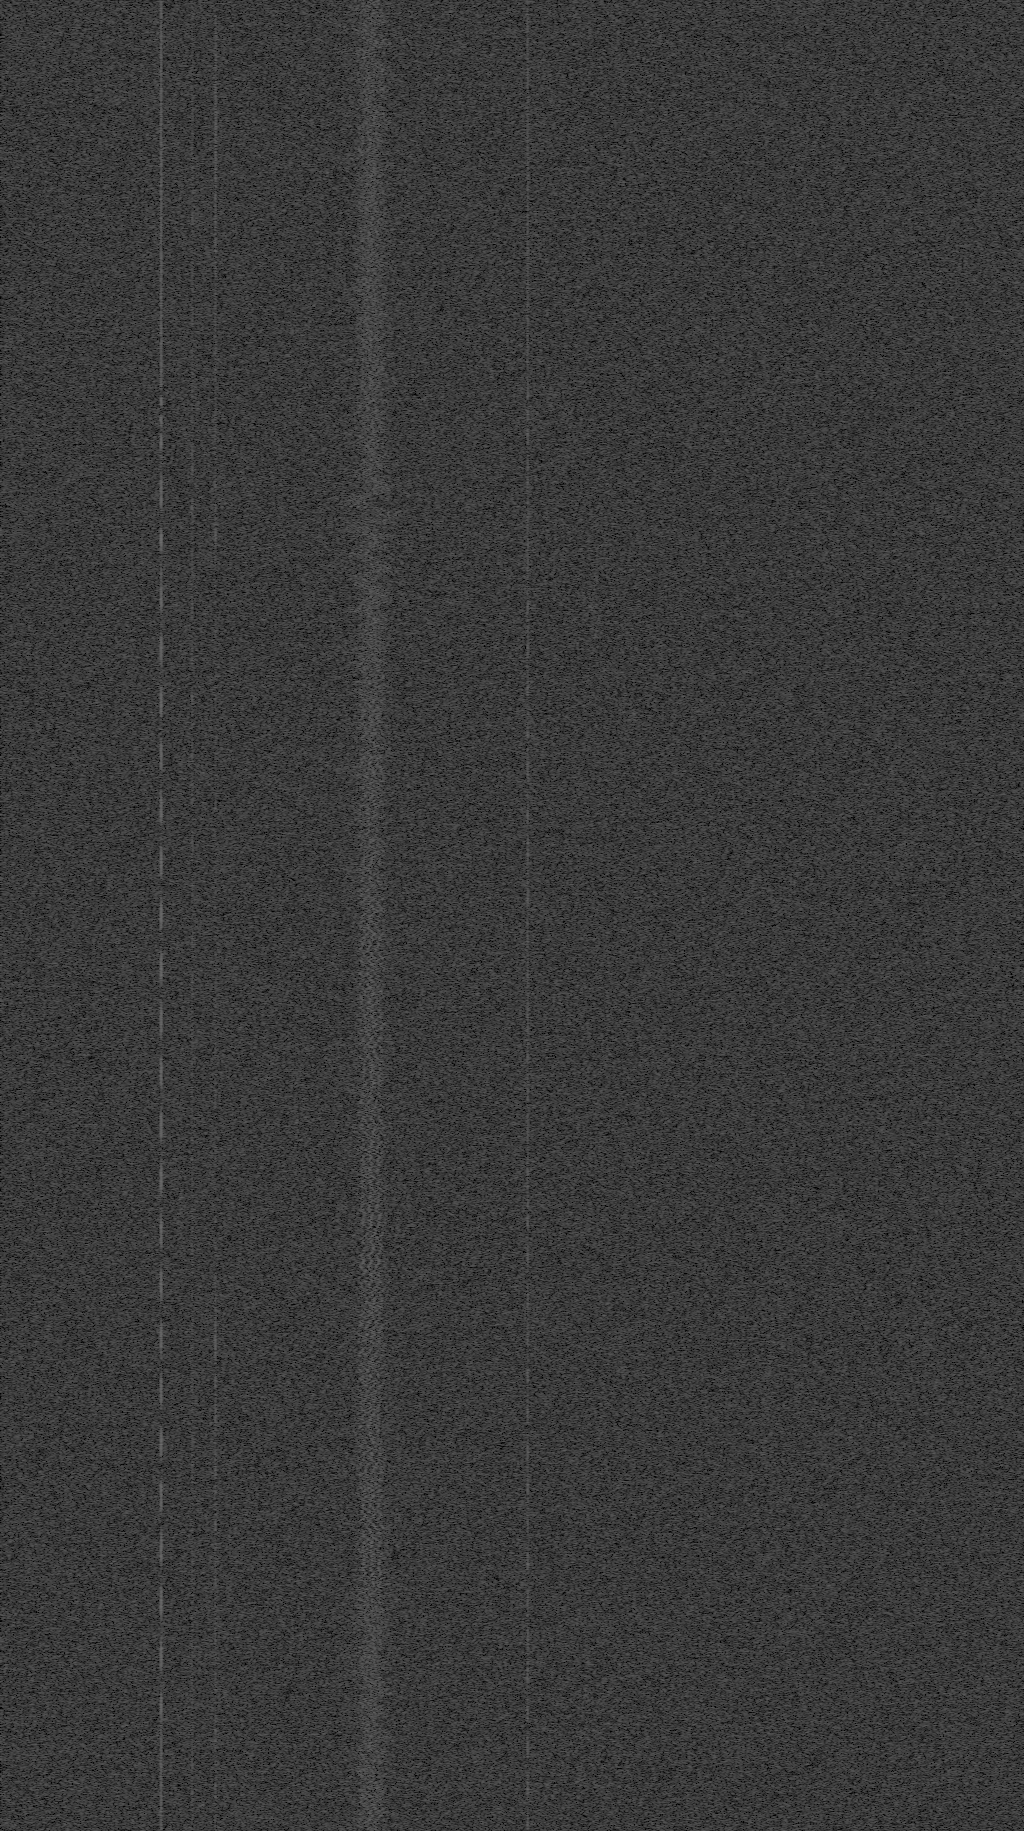wv_am: (190, 494, 195, 1830), (525, 831, 530, 1830), (159, 944, 164, 1830), (190, 1, 195, 480), (525, 407, 530, 827), (159, 1, 164, 409), (525, 1, 530, 402), (159, 727, 164, 938), (159, 524, 164, 672), (159, 414, 164, 513), (159, 674, 164, 726)
wv_usb: (213, 13, 218, 296), (213, 1264, 218, 1439), (213, 296, 218, 458), (213, 1498, 218, 1592), (213, 467, 218, 552), (213, 1019, 218, 1089), (213, 1745, 218, 1810), (213, 1440, 218, 1496), (213, 761, 218, 817), (213, 1090, 218, 1144), (213, 1597, 218, 1647), (213, 612, 218, 659), (213, 1180, 218, 1225), (213, 915, 218, 960), (213, 1701, 218, 1737), (213, 1668, 218, 1701), (213, 578, 218, 612), (213, 967, 218, 1000), (213, 661, 218, 694), (213, 719, 218, 750), (213, 553, 218, 578), (213, 1239, 218, 1263), (213, 1146, 218, 1170), (214, 848, 218, 877), (213, 1810, 218, 1830), (213, 1649, 218, 1668), (213, 1001, 218, 1017), (213, 695, 218, 711), (214, 885, 216, 903), (214, 817, 218, 826), (213, 1738, 218, 1744), (214, 829, 216, 839), (214, 878, 218, 884), (214, 910, 218, 915), (214, 840, 216, 848), (214, 751, 218, 756), (214, 462, 218, 467), (214, 1227, 216, 1234), (214, 961, 218, 965), (214, 1172, 216, 1177), (214, 905, 218, 908), (214, 1593, 216, 1596)
wv_wbfm: (335, 0, 408, 1830)
